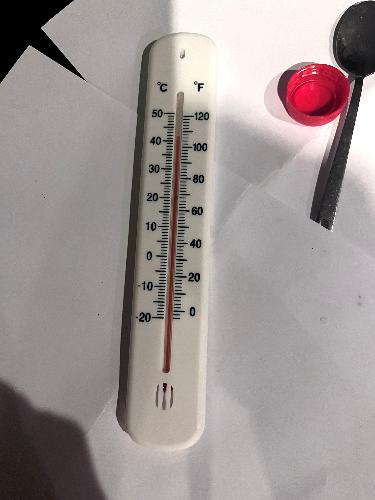thermo: (119, 30, 221, 444)
